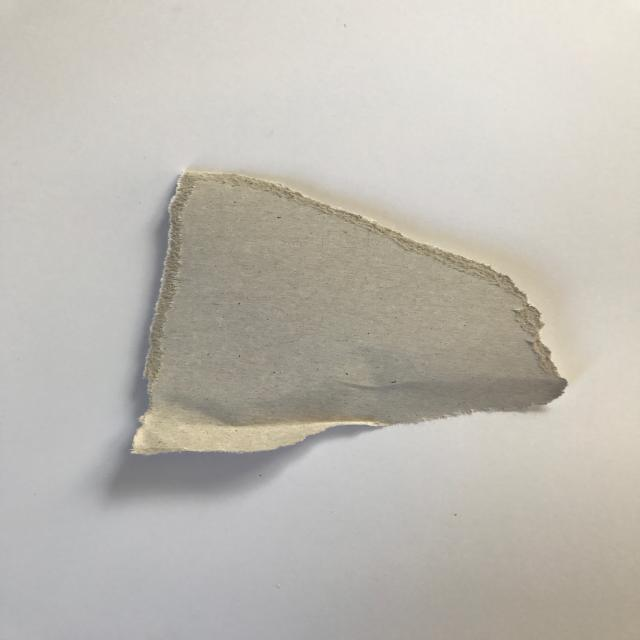paper: (129, 168, 569, 456)
